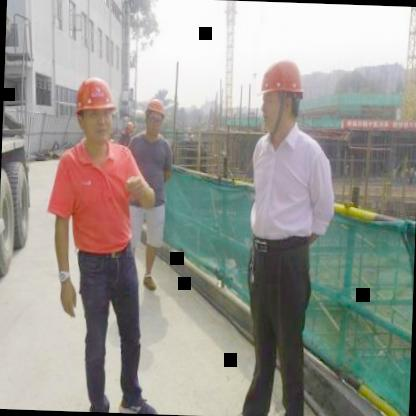helmet: (254, 50, 309, 144), (70, 70, 121, 150), (140, 93, 170, 139)
